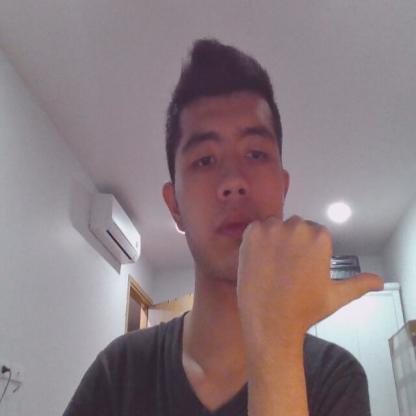left: (237, 212, 387, 346)
